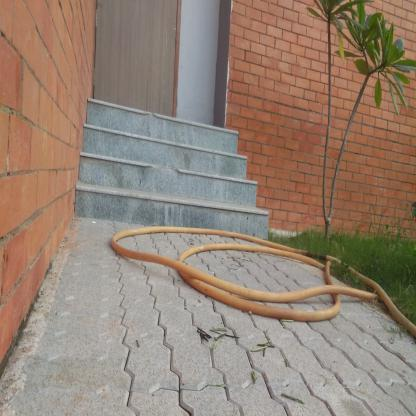stairs: (92, 142, 241, 243)
